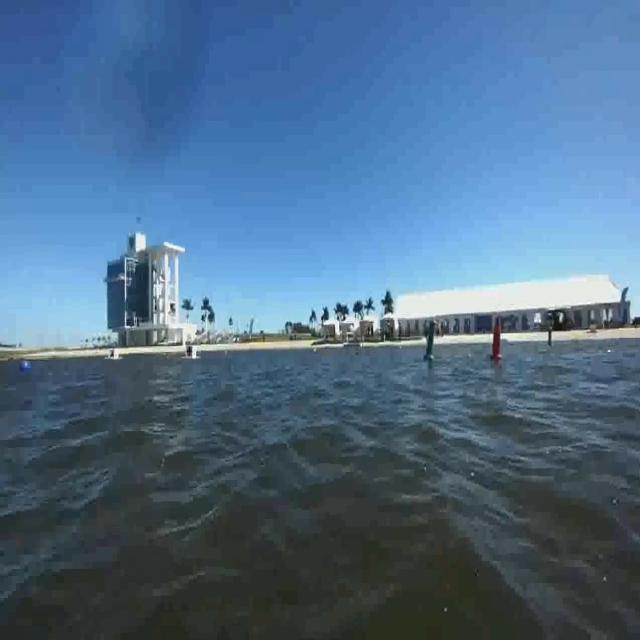blue-buoy: (19, 353, 33, 372)
green-column-buoy: (420, 312, 439, 372)
red-column-buoy: (490, 319, 504, 362)
